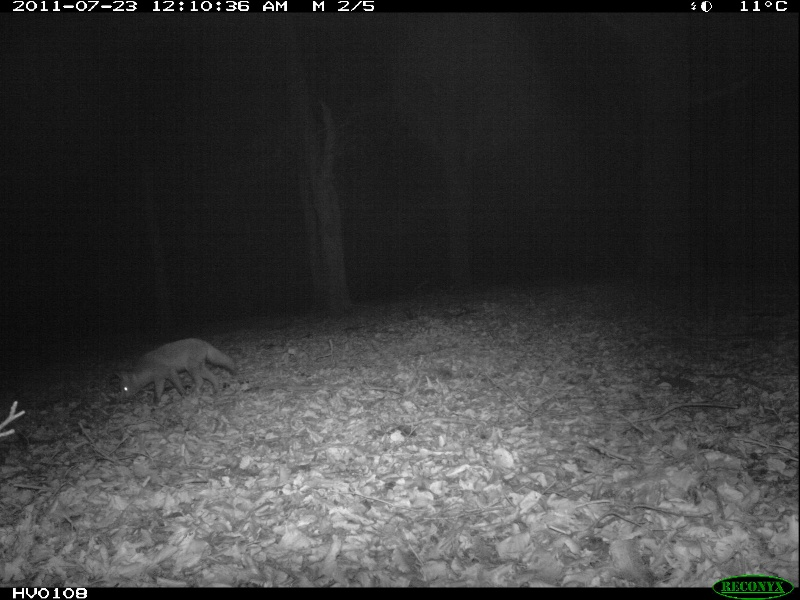fox: (116, 331, 239, 411)
